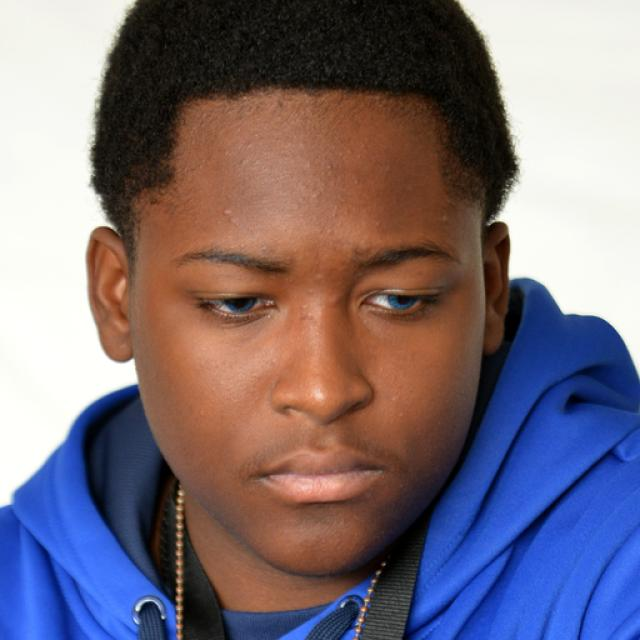Acne: (219, 205, 239, 226)
